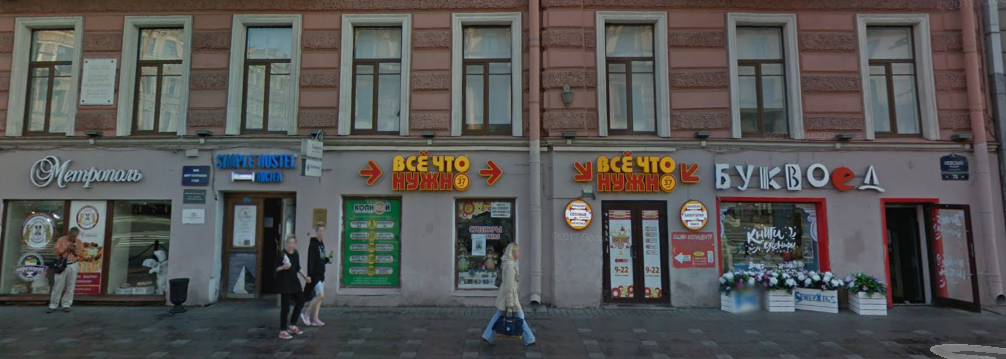cantilever: (293, 127, 334, 185)
door: (884, 203, 976, 308), (215, 196, 296, 300), (603, 204, 663, 304)
signboard: (710, 154, 894, 204), (357, 144, 516, 196), (566, 148, 697, 197), (26, 148, 144, 195), (206, 143, 297, 187), (678, 194, 710, 236), (555, 198, 597, 228)
window: (6, 202, 165, 298), (715, 196, 823, 271), (14, 26, 74, 136), (867, 26, 923, 139), (347, 25, 403, 136), (737, 26, 791, 138), (131, 26, 184, 135), (460, 27, 512, 135), (240, 25, 293, 130), (607, 26, 653, 136), (456, 202, 514, 288), (343, 198, 397, 286)
